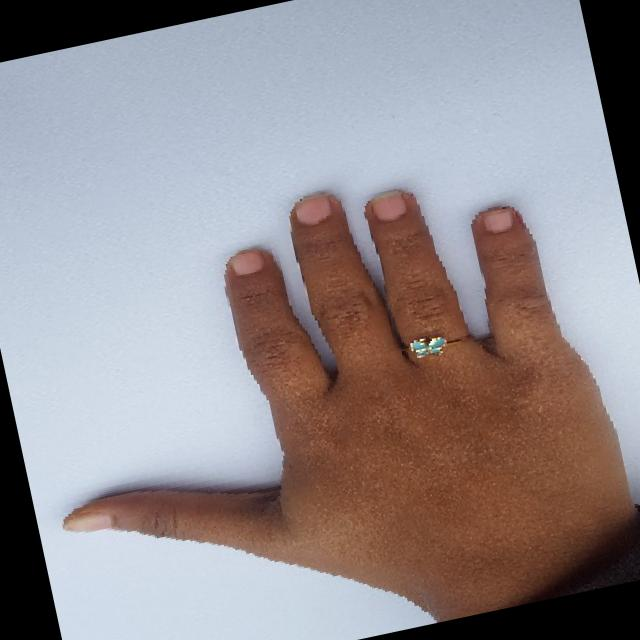Nail: (368, 189, 405, 221), (293, 193, 330, 224), (227, 249, 264, 275), (62, 512, 111, 531), (479, 206, 512, 232)
